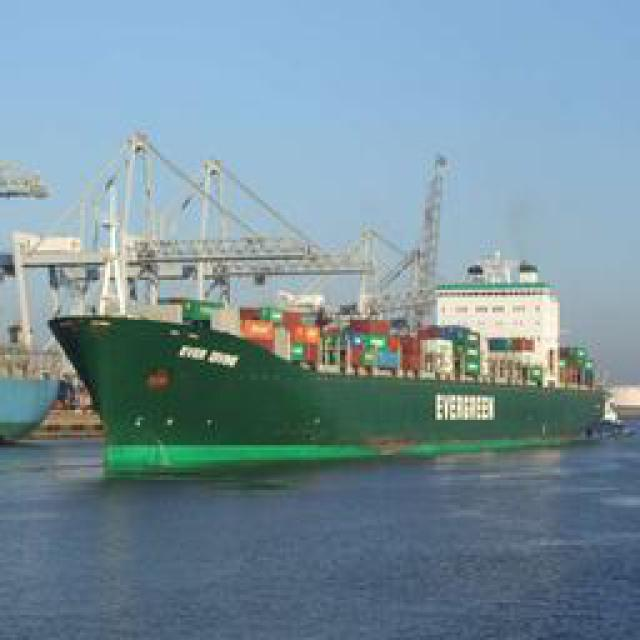Ship: (28, 129, 616, 464)
